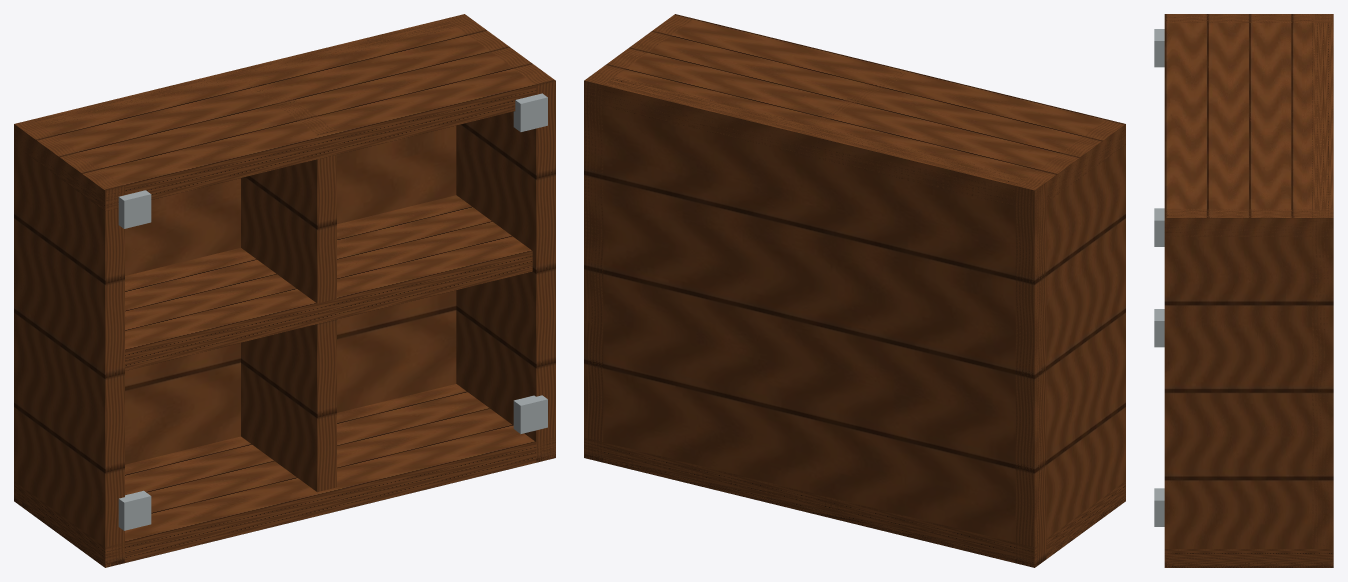
Rendered from modular-survival-base-builder-wall-storage-cubby-139ac4c1__24264.glb.
3 views of the same model, side by side, from view 1: azimuth 30°, elevation 25°; view 2: azimuth 150°, elevation 25°; view 3: azimuth 270°, elevation 25° (orthographic). The views are drawn at different scales.
Visible parts, largest first — view 1: wall-storage-cubby; view 2: wall-storage-cubby; view 3: wall-storage-cubby.
Part boxes in pixels (<box>): wall-storage-cubby: <box>14,14,555,567</box>; wall-storage-cubby: <box>584,14,1125,567</box>; wall-storage-cubby: <box>1154,14,1333,567</box>.
Bounding box in the file's own units: 1 × 0.8 × 0.371.
Materials: 2 (1 with a texture image).
